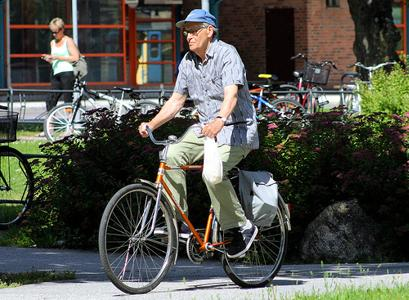person: (141, 10, 261, 259)
